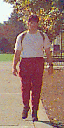person: (14, 13, 49, 120)
